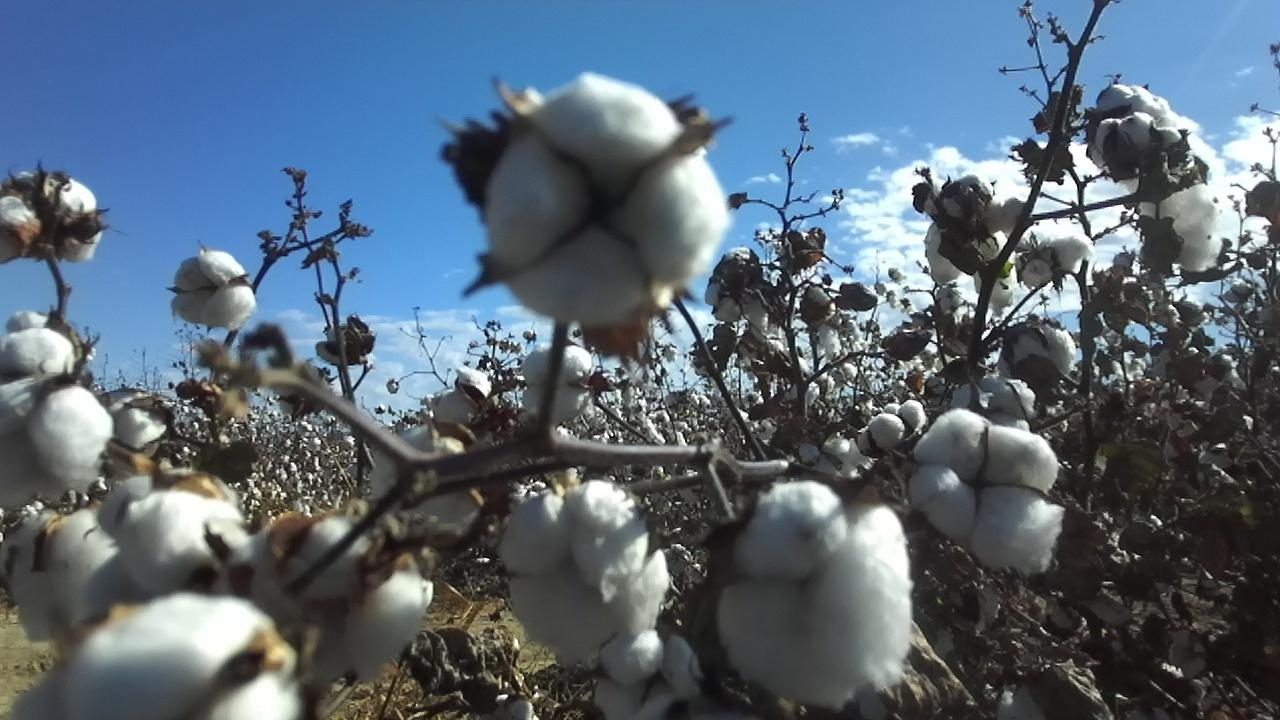cotton_ready: (487, 74, 727, 327), (710, 482, 914, 710), (7, 591, 304, 720), (0, 491, 249, 644), (251, 510, 440, 685), (496, 481, 670, 662), (910, 410, 1064, 582), (0, 330, 114, 509), (922, 162, 1028, 280), (371, 430, 484, 527), (1122, 173, 1224, 275), (595, 634, 707, 720), (0, 178, 104, 264), (104, 390, 170, 499), (172, 251, 257, 332), (521, 343, 592, 417), (707, 247, 770, 330), (1087, 117, 1180, 170), (7, 310, 99, 362), (950, 377, 1038, 430), (1014, 229, 1092, 285), (1006, 320, 1075, 378), (1097, 82, 1177, 130), (857, 401, 925, 455), (797, 434, 872, 479), (433, 371, 494, 425), (999, 680, 1072, 720), (972, 257, 1016, 314), (781, 229, 825, 277), (315, 326, 365, 367), (801, 285, 837, 325), (480, 697, 539, 720)
